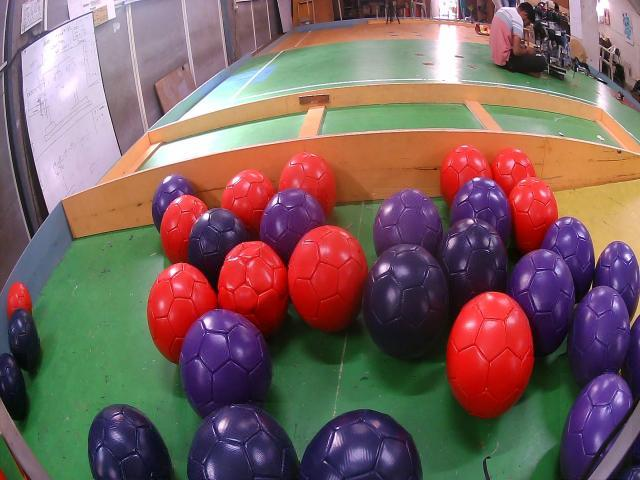jambhalya: (180, 309, 273, 418), (560, 374, 632, 480), (507, 248, 574, 357), (569, 285, 629, 386), (260, 188, 327, 267), (374, 188, 443, 257), (541, 217, 595, 303), (450, 177, 512, 243), (593, 240, 640, 319), (151, 173, 195, 232)
kaalyya: (363, 244, 449, 358), (300, 410, 422, 480), (187, 404, 299, 480), (437, 218, 508, 310), (88, 404, 173, 480), (188, 208, 248, 290), (9, 308, 39, 372), (0, 354, 27, 420)
